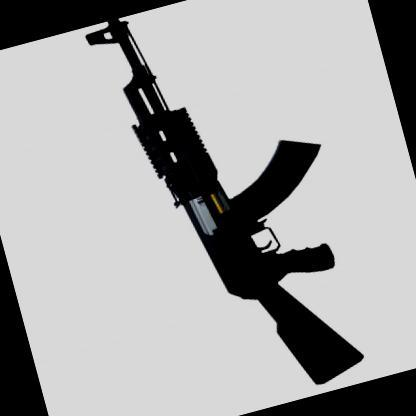rifle: (85, 0, 405, 416)
